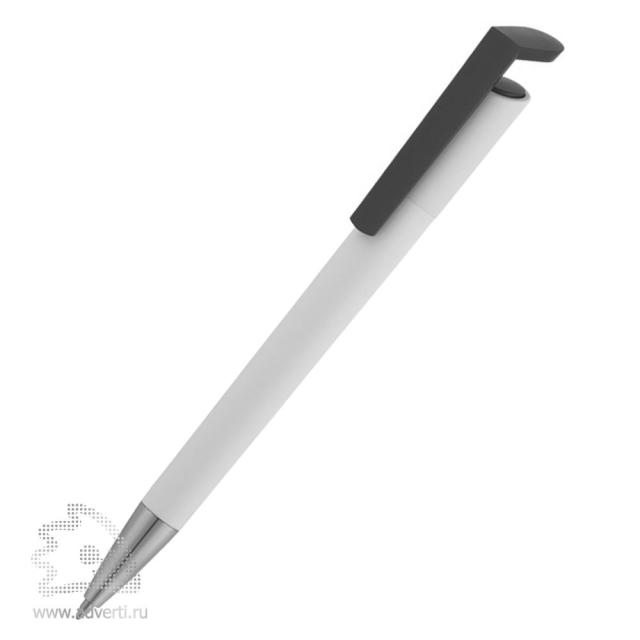pen: (77, 27, 565, 618)
